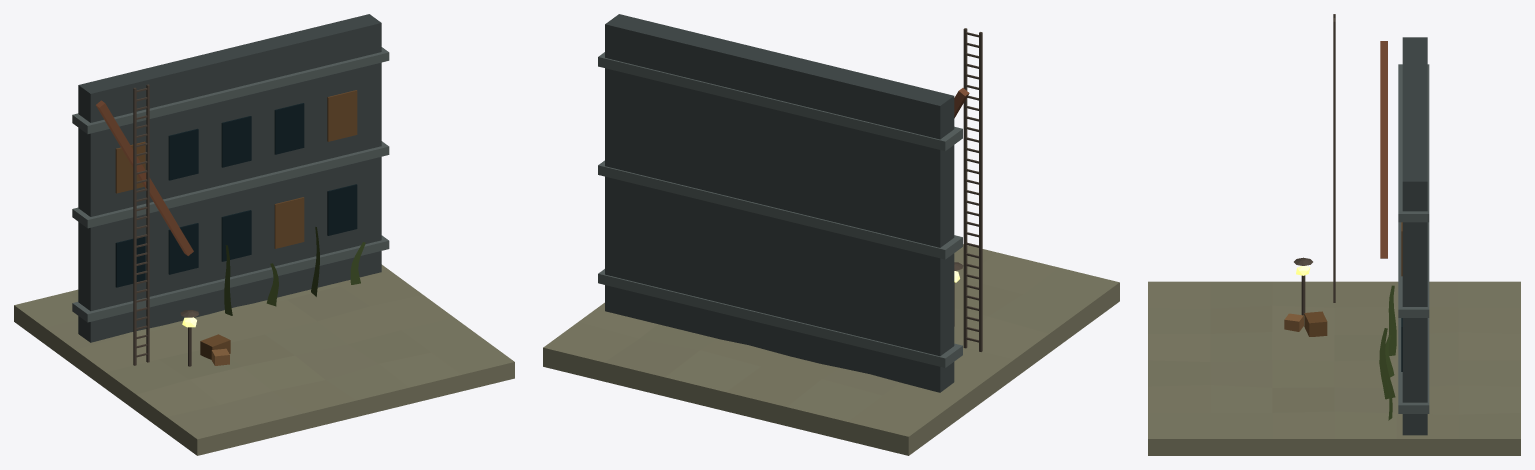
The model's file is base_hatch_landmark.glb.
3 views of the same model, side by side, from view 1: azimuth 30°, elevation 25°; view 2: azimuth 150°, elevation 25°; view 3: azimuth 270°, elevation 25° (orthographic). The views are drawn at different scales.
Visible parts, largest first — view 1: base_hatch_landmark; view 2: base_hatch_landmark; view 3: base_hatch_landmark.
Boxes of the visible parts, box(x1,y1,x2,y2) form: base_hatch_landmark: box(14, 14, 514, 455); base_hatch_landmark: box(543, 14, 1119, 455); base_hatch_landmark: box(1148, 14, 1520, 455).
Size of the model in its own units: 12 by 10.6 by 12.
